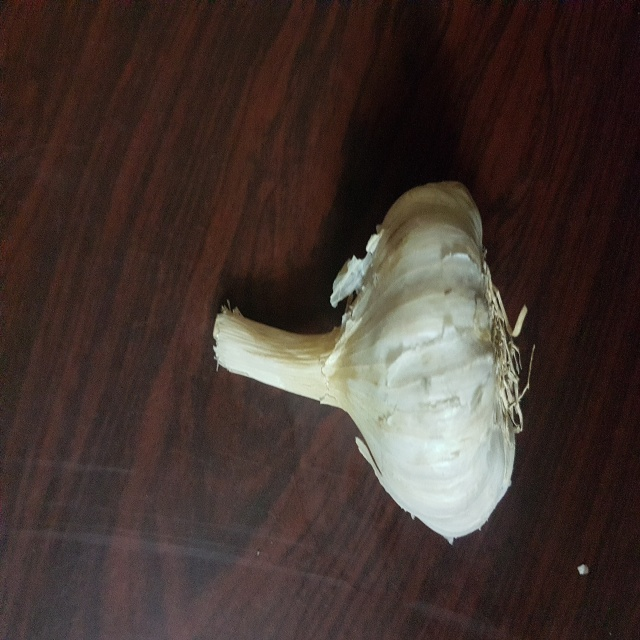garlic: (213, 167, 540, 544)
